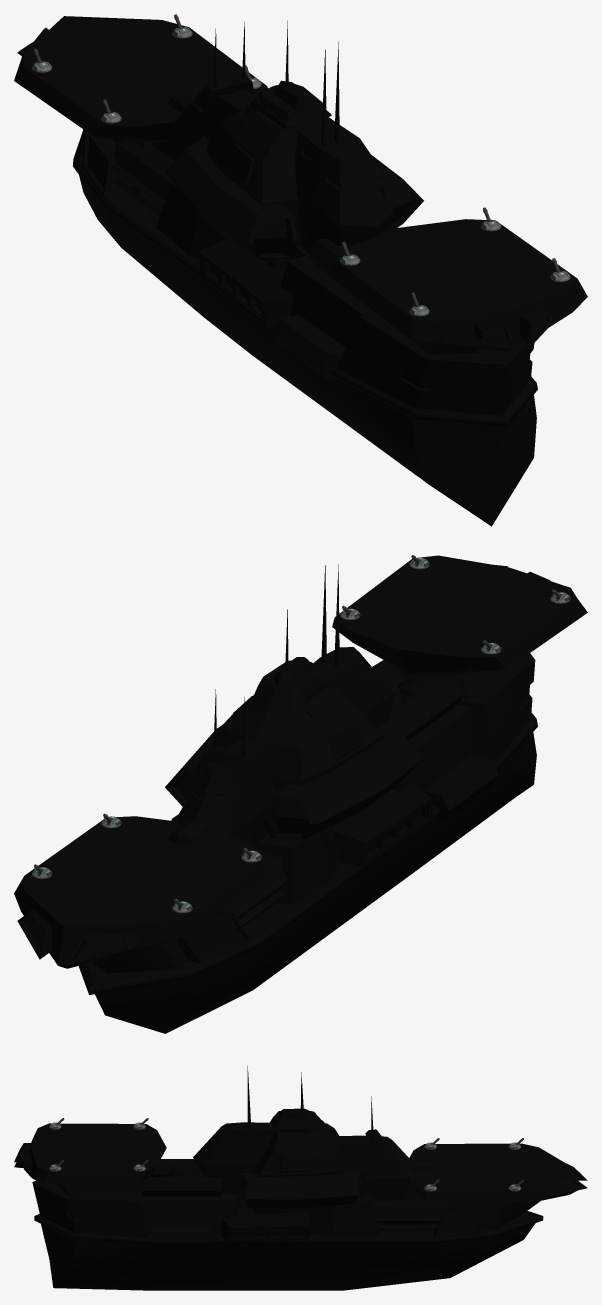
File: navy_battleship.glb
3 views of the same model, one above another, from view 1: azimuth 30°, elevation 25°; view 2: azimuth 150°, elevation 25°; view 3: azimuth 270°, elevation 25° (orthographic). The views are drawn at different scales.
Visible parts, largest first — view 1: detail0, turret01; view 2: detail0, turret01; view 3: detail0, turret02.
Boxes of the visible parts, box(x1,y1,x2,y2) form: detail0: box(14, 16, 587, 526); turret01: box(203, 259, 261, 317); detail0: box(14, 555, 587, 1033); turret01: box(367, 805, 426, 859); detail0: box(14, 1066, 587, 1290); turret02: box(231, 1229, 304, 1238).
Bounding box in the file's own units: 0.7352 × 1.45 × 3.33.
2 materials, 1 textured.
